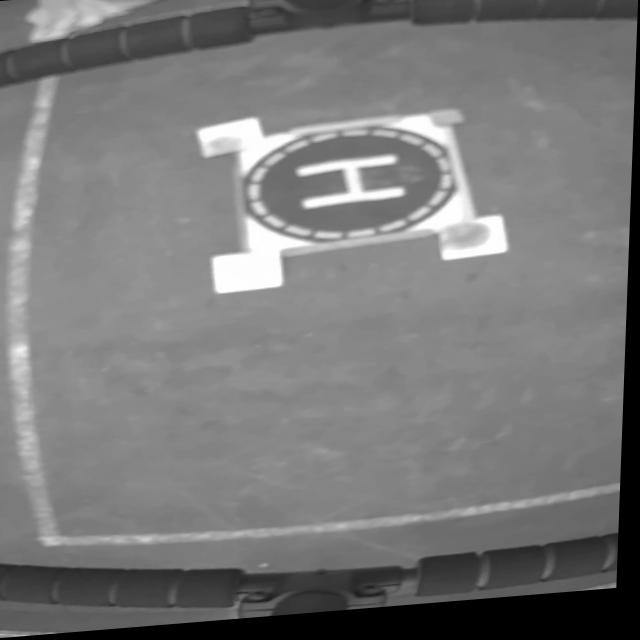Helipad: (294, 158, 408, 215)
